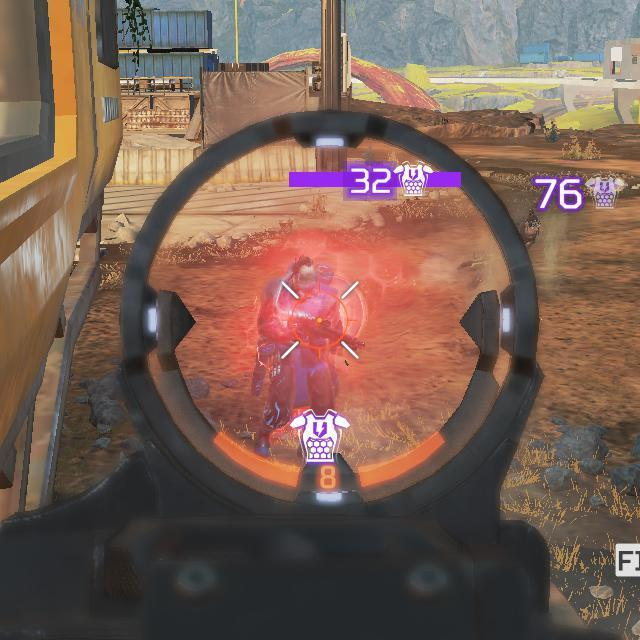avatar: (253, 252, 345, 413)
